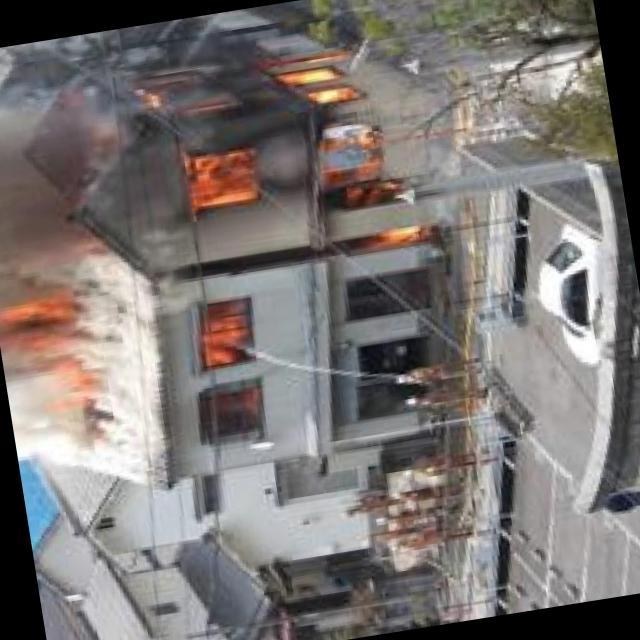Fire: (112, 23, 428, 291), (1, 271, 107, 441), (189, 300, 263, 400)
